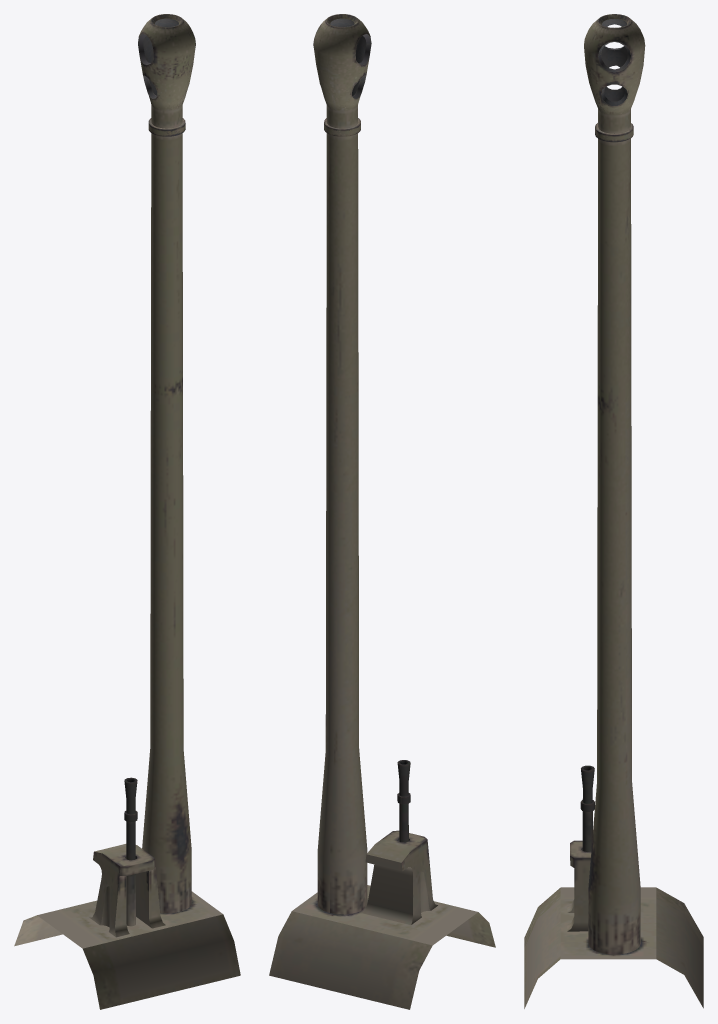
File: Gun_09.glb
3 views of the same model, side by side, from view 1: azimuth 30°, elevation 25°; view 2: azimuth 150°, elevation 25°; view 3: azimuth 270°, elevation 25° (orthographic). The views are drawn at different scales.
Visible parts, largest first — view 1: set_0_group_0; view 2: set_0_group_0; view 3: set_0_group_0.
Part boxes in pixels (left/top/right/bottom): set_0_group_0: left=14, top=14, right=240, bottom=1009; set_0_group_0: left=269, top=14, right=495, bottom=1009; set_0_group_0: left=524, top=14, right=703, bottom=1008.
Bounding box in the file's own units: 0.5352 × 3.38 × 0.5654.
Materials: 1 (1 with a texture image).
